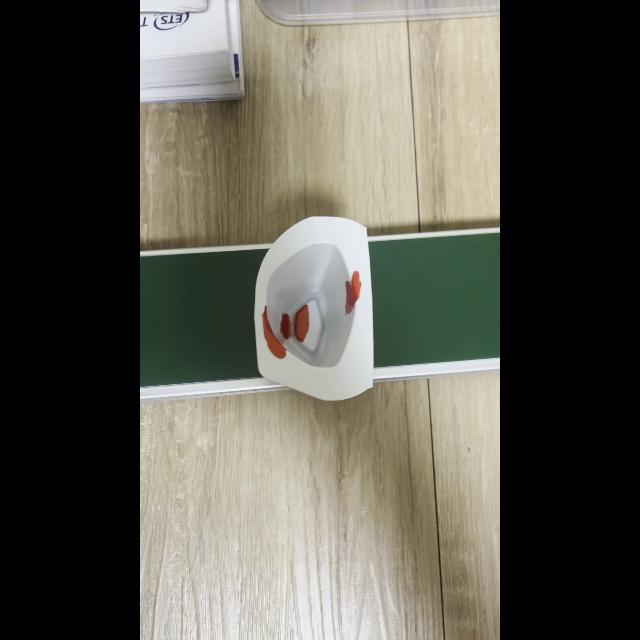dirty: (254, 247, 374, 376)
